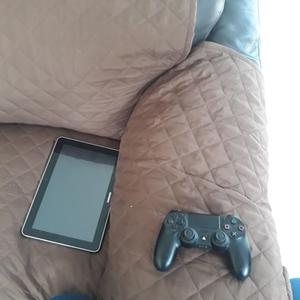controller: (154, 209, 250, 280)
